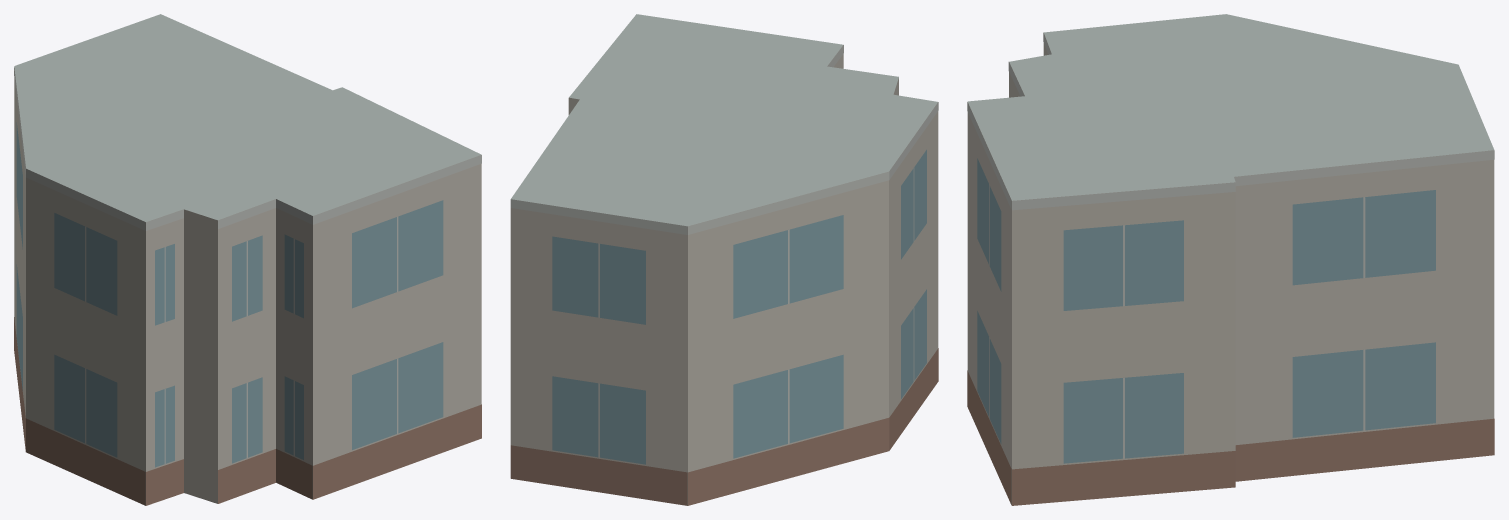
Rendered from survey-upis-32956709.glb.
The picture shows the model from 3 angles, left to right: view 1: azimuth 30°, elevation 25°; view 2: azimuth 150°, elevation 25°; view 3: azimuth 270°, elevation 25°; orthographic projection. The views are drawn at different scales.
Parts seen in each view (by area): view 1: survey-upis-32956709.tmp; view 2: survey-upis-32956709.tmp; view 3: survey-upis-32956709.tmp.
Part boxes in pixels (left/top/right/bottom): survey-upis-32956709.tmp: left=14, top=14, right=481, bottom=505; survey-upis-32956709.tmp: left=510, top=14, right=938, bottom=505; survey-upis-32956709.tmp: left=967, top=14, right=1494, bottom=505.
Bounding box in the file's own units: 10.26 × 7.8 × 12.23.
